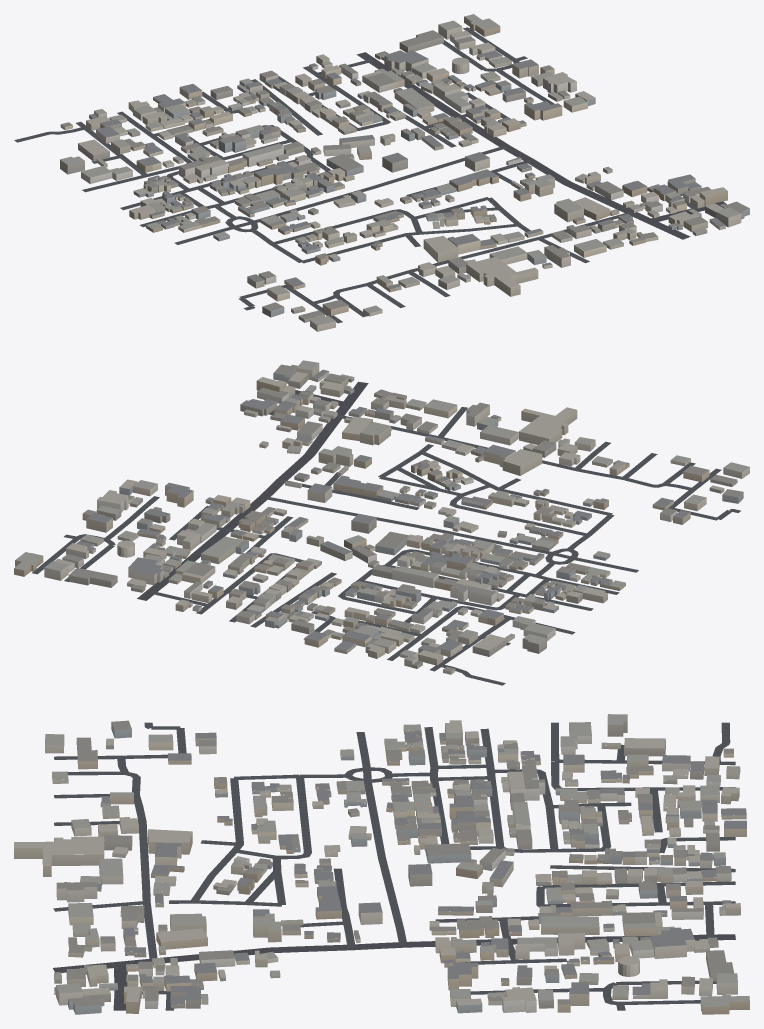
3 views of the same model, one above another, from view 1: azimuth 30°, elevation 25°; view 2: azimuth 150°, elevation 25°; view 3: azimuth 270°, elevation 25° (orthographic). The views are drawn at different scales.
Parts seen in each view (by area): view 1: buildings_roofs, buildings_walls, roads; view 2: buildings_roofs, buildings_walls, roads; view 3: buildings_roofs, buildings_walls, roads.
Boxes of the visible parts, box(x1,y1,x2,y2) form: buildings_roofs: box(60, 14, 749, 325); buildings_walls: box(60, 16, 749, 331); roads: box(14, 27, 726, 323); buildings_roofs: box(14, 360, 749, 671); buildings_walls: box(14, 363, 749, 674); roads: box(32, 381, 740, 685); buildings_roofs: box(14, 714, 749, 1006); buildings_walls: box(14, 721, 749, 1014); roads: box(53, 722, 735, 1010).
Size of the model in its own units: 507 by 9.62 by 540.
